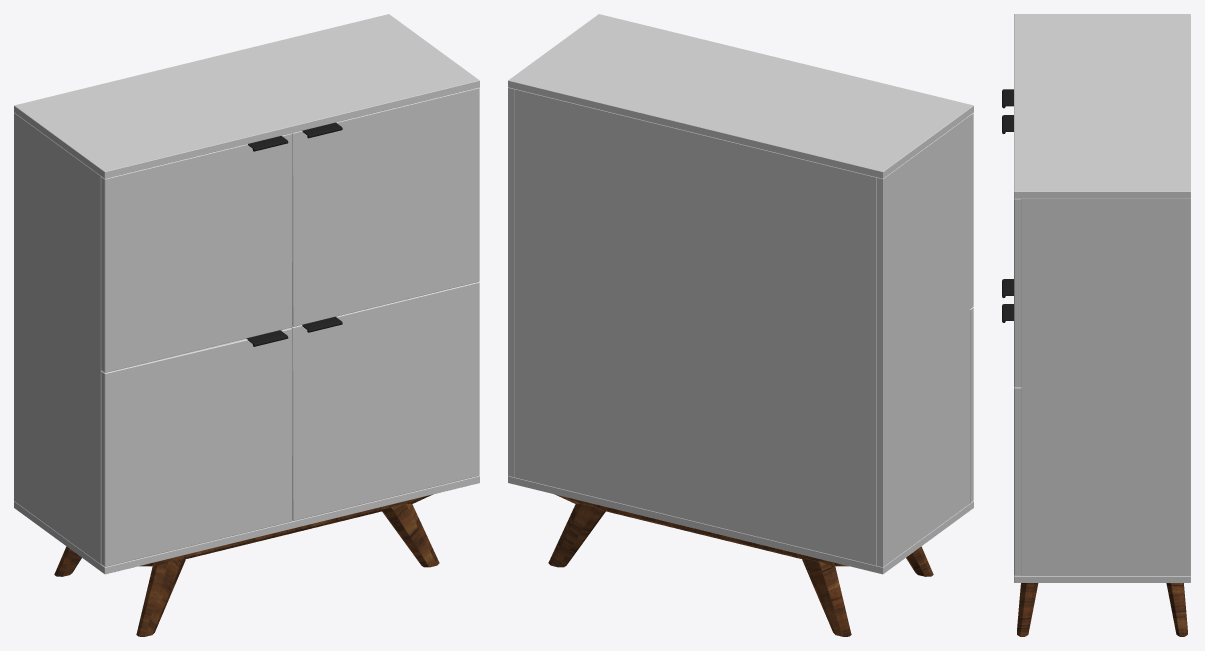
3 views of the same model, side by side, from view 1: azimuth 30°, elevation 25°; view 2: azimuth 150°, elevation 25°; view 3: azimuth 270°, elevation 25° (orthographic). The views are drawn at different scales.
Visible parts, largest first — view 1: GREY, WOOD, Material__27_1; view 2: GREY, WOOD; view 3: GREY, WOOD, Material__27_1.
Part boxes in pixels (left/top/right/bottom): GREY: left=14, top=14, right=479, bottom=574; WOOD: left=54, top=494, right=439, bottom=636; Material__27_1: left=246, top=122, right=342, bottom=346; GREY: left=508, top=14, right=973, bottom=574; WOOD: left=548, top=494, right=933, bottom=636; GREY: left=1014, top=14, right=1190, bottom=582; WOOD: left=1017, top=583, right=1187, bottom=636; Material__27_1: left=1002, top=89, right=1013, bottom=322.
Size of what is drawn, in the model's own units: 100 by 121 by 44.81.
